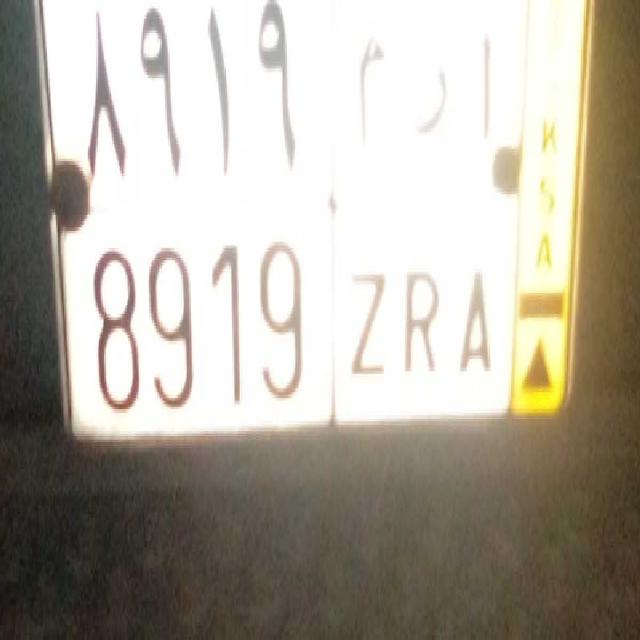license_plate: (77, 208, 507, 426)
